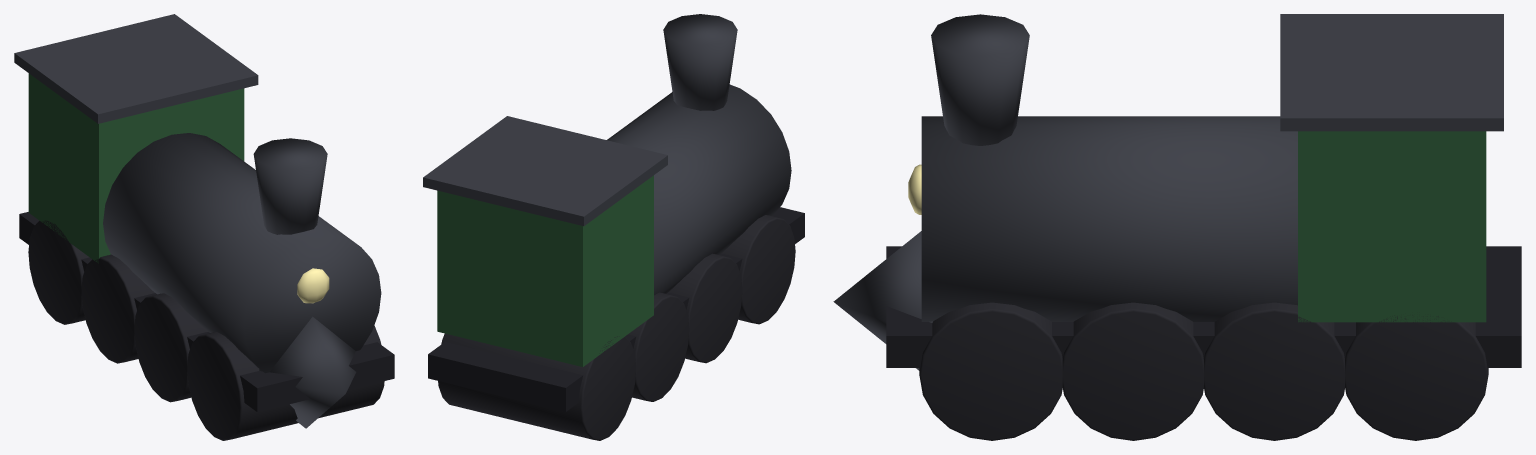
The model's file is locomotive.glb.
3 views of the same model, side by side, from view 1: azimuth 30°, elevation 25°; view 2: azimuth 150°, elevation 25°; view 3: azimuth 270°, elevation 25° (orthographic). The views are drawn at different scales.
Parts seen in each view (by area): view 1: body, wheel0, wheel1, wheel2, wheel3; view 2: body, wheel3, wheel0, wheel1, wheel2; view 3: body, wheel0, wheel1, wheel2, wheel3.
Part boxes in pixels (x1,y1,x2,y2): body: (14,14,394,428); wheel0: (187,325,384,440); wheel1: (134,293,207,402); wheel2: (81,254,154,363); wheel3: (28,220,89,324); body: (423,14,804,411); wheel3: (438,333,635,440); wheel0: (721,215,795,324); wheel1: (668,253,742,363); wheel2: (628,292,689,401); body: (833,14,1521,370); wheel0: (919,302,1062,440); wheel1: (1062,302,1203,440); wheel2: (1204,302,1344,440); wheel3: (1345,315,1488,440).
Size of the model in its own units: 2.1 by 3.37 by 5.85.
